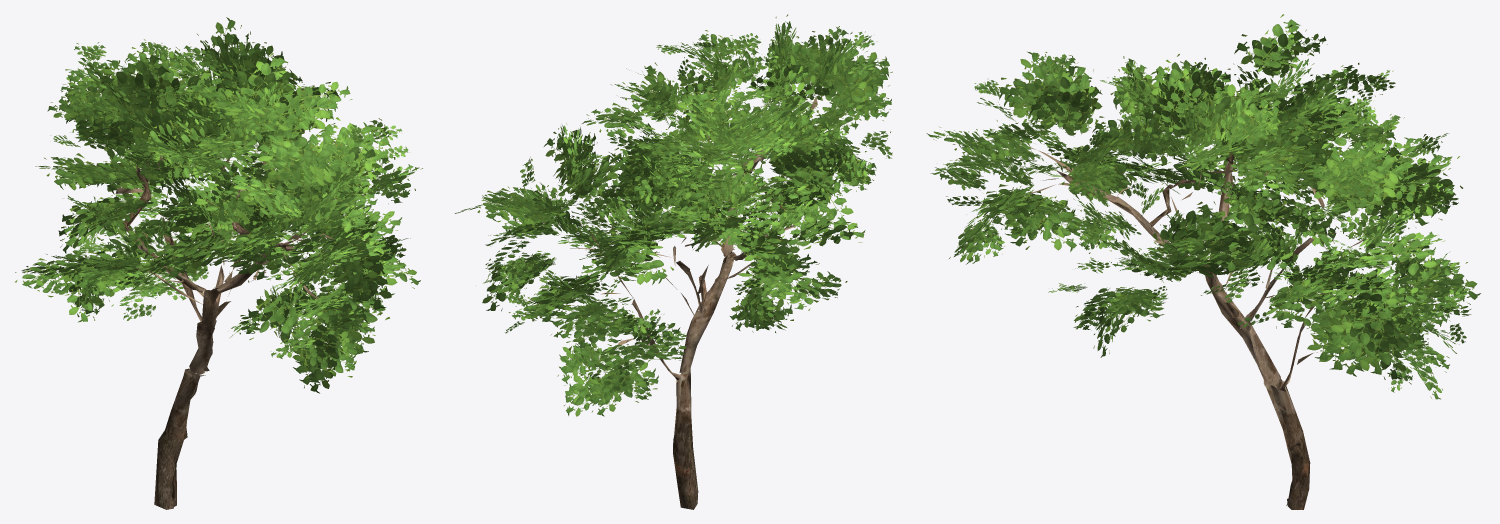
Rendered from sycamore_b.glb.
3 views of the same model, side by side, from view 1: azimuth 30°, elevation 25°; view 2: azimuth 150°, elevation 25°; view 3: azimuth 270°, elevation 25° (orthographic). The views are drawn at different scales.
Parts seen in each view (by area): view 1: sycamore_b; view 2: sycamore_b; view 3: sycamore_b.
Boxes of the visible parts, left/top/right/bottom form: sycamore_b: left=15, top=17, right=422, bottom=509; sycamore_b: left=455, top=14, right=892, bottom=509; sycamore_b: left=926, top=14, right=1480, bottom=509.
Size of what is drawn, in the model's own units: 5.93 by 7.38 by 8.36.
1 material, 1 textured.
